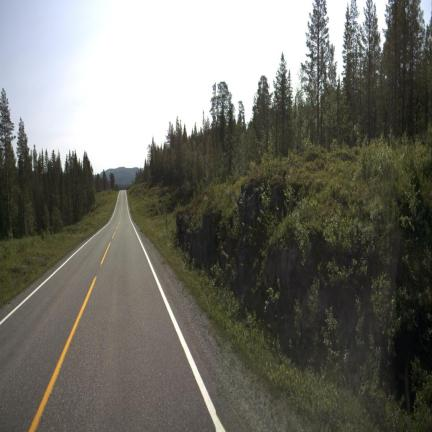Road: (0, 192, 223, 430)
